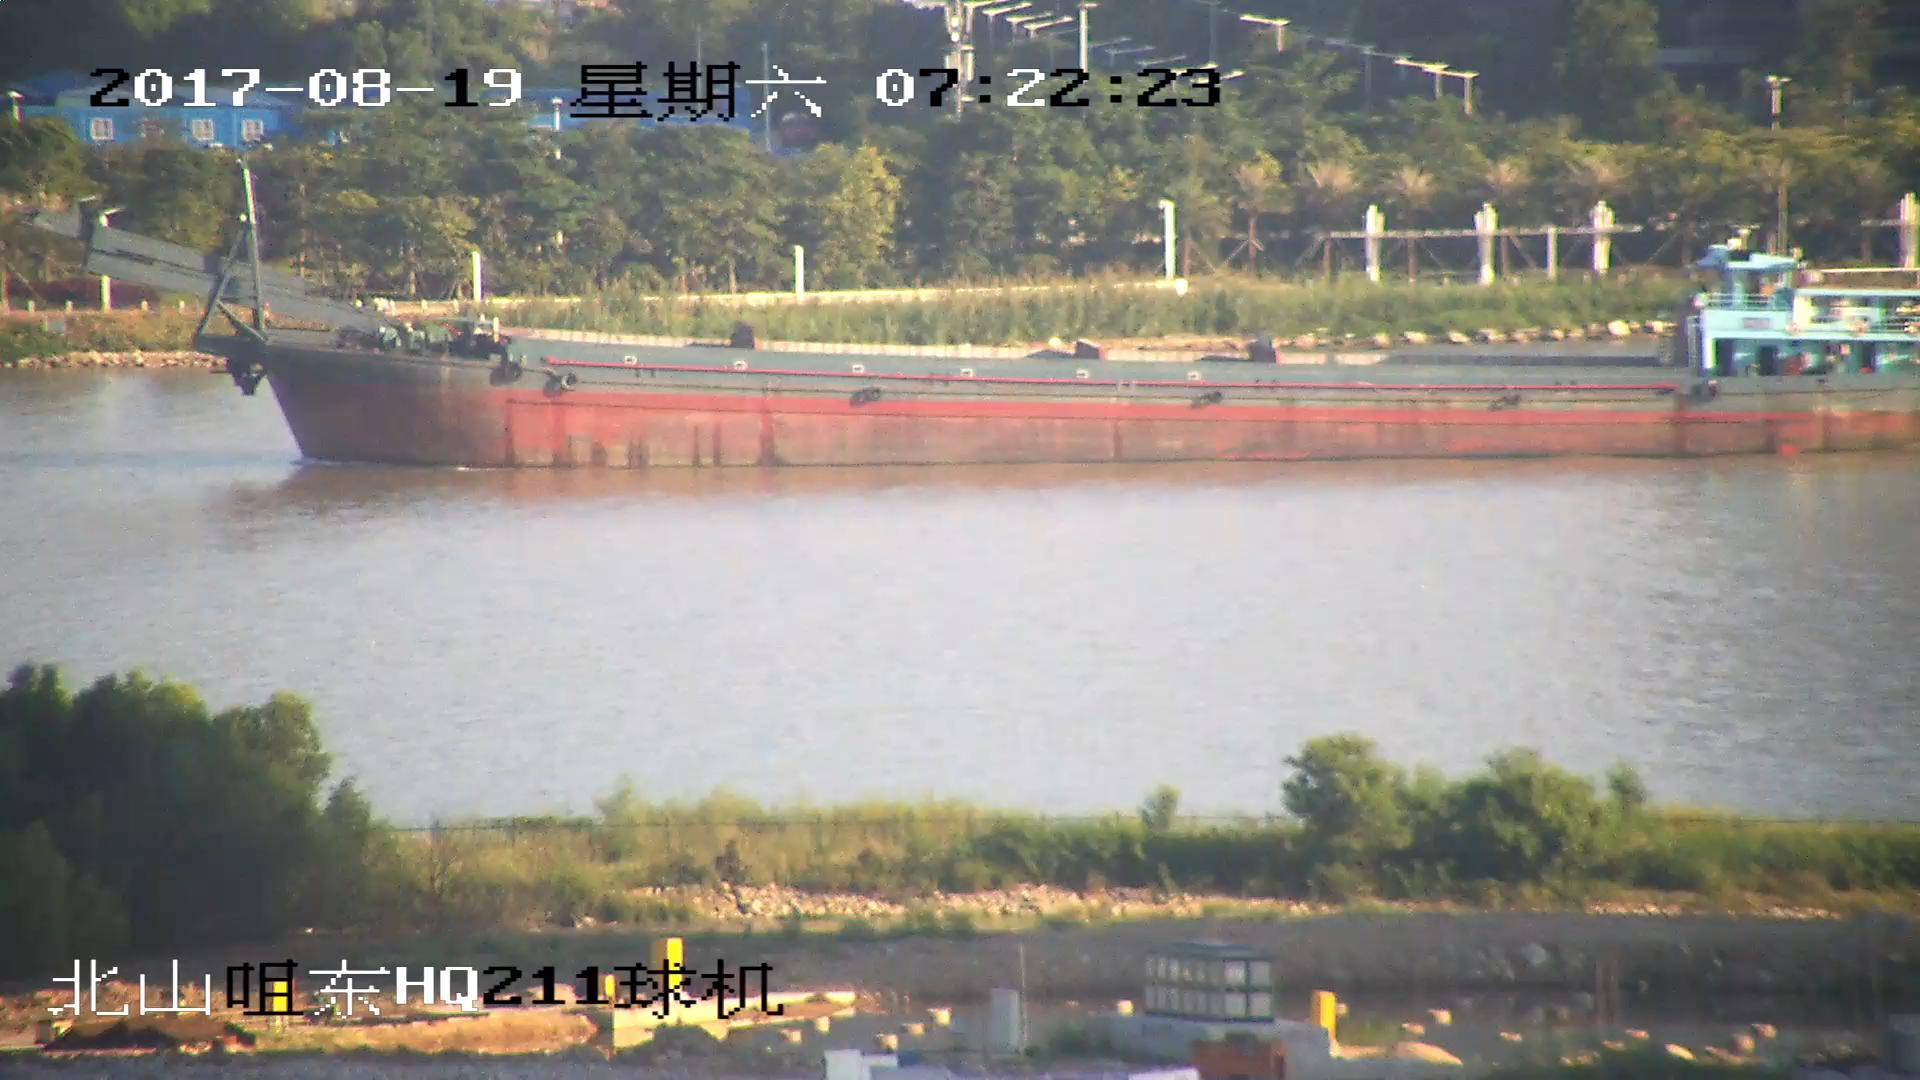Ship: (22, 171, 1920, 467)
